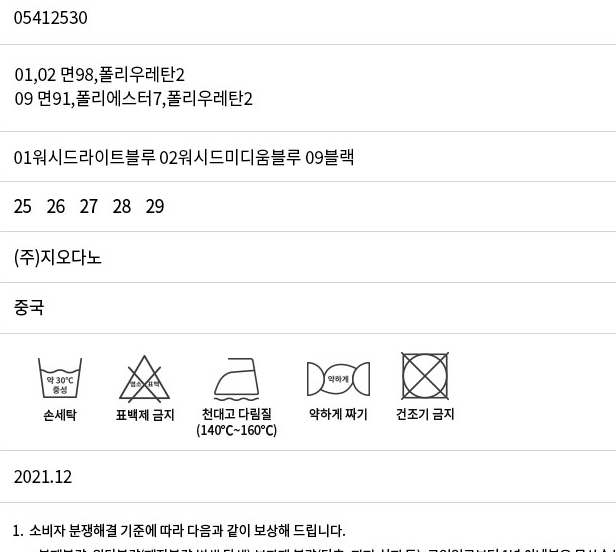KR_gentle_wring: (302, 354, 377, 402)
KR_hand_wash_30_neutral: (34, 354, 83, 402)
KR_no_chlorine_bleach: (118, 351, 172, 406)
KR_no_tumble_dry: (394, 346, 454, 403)
